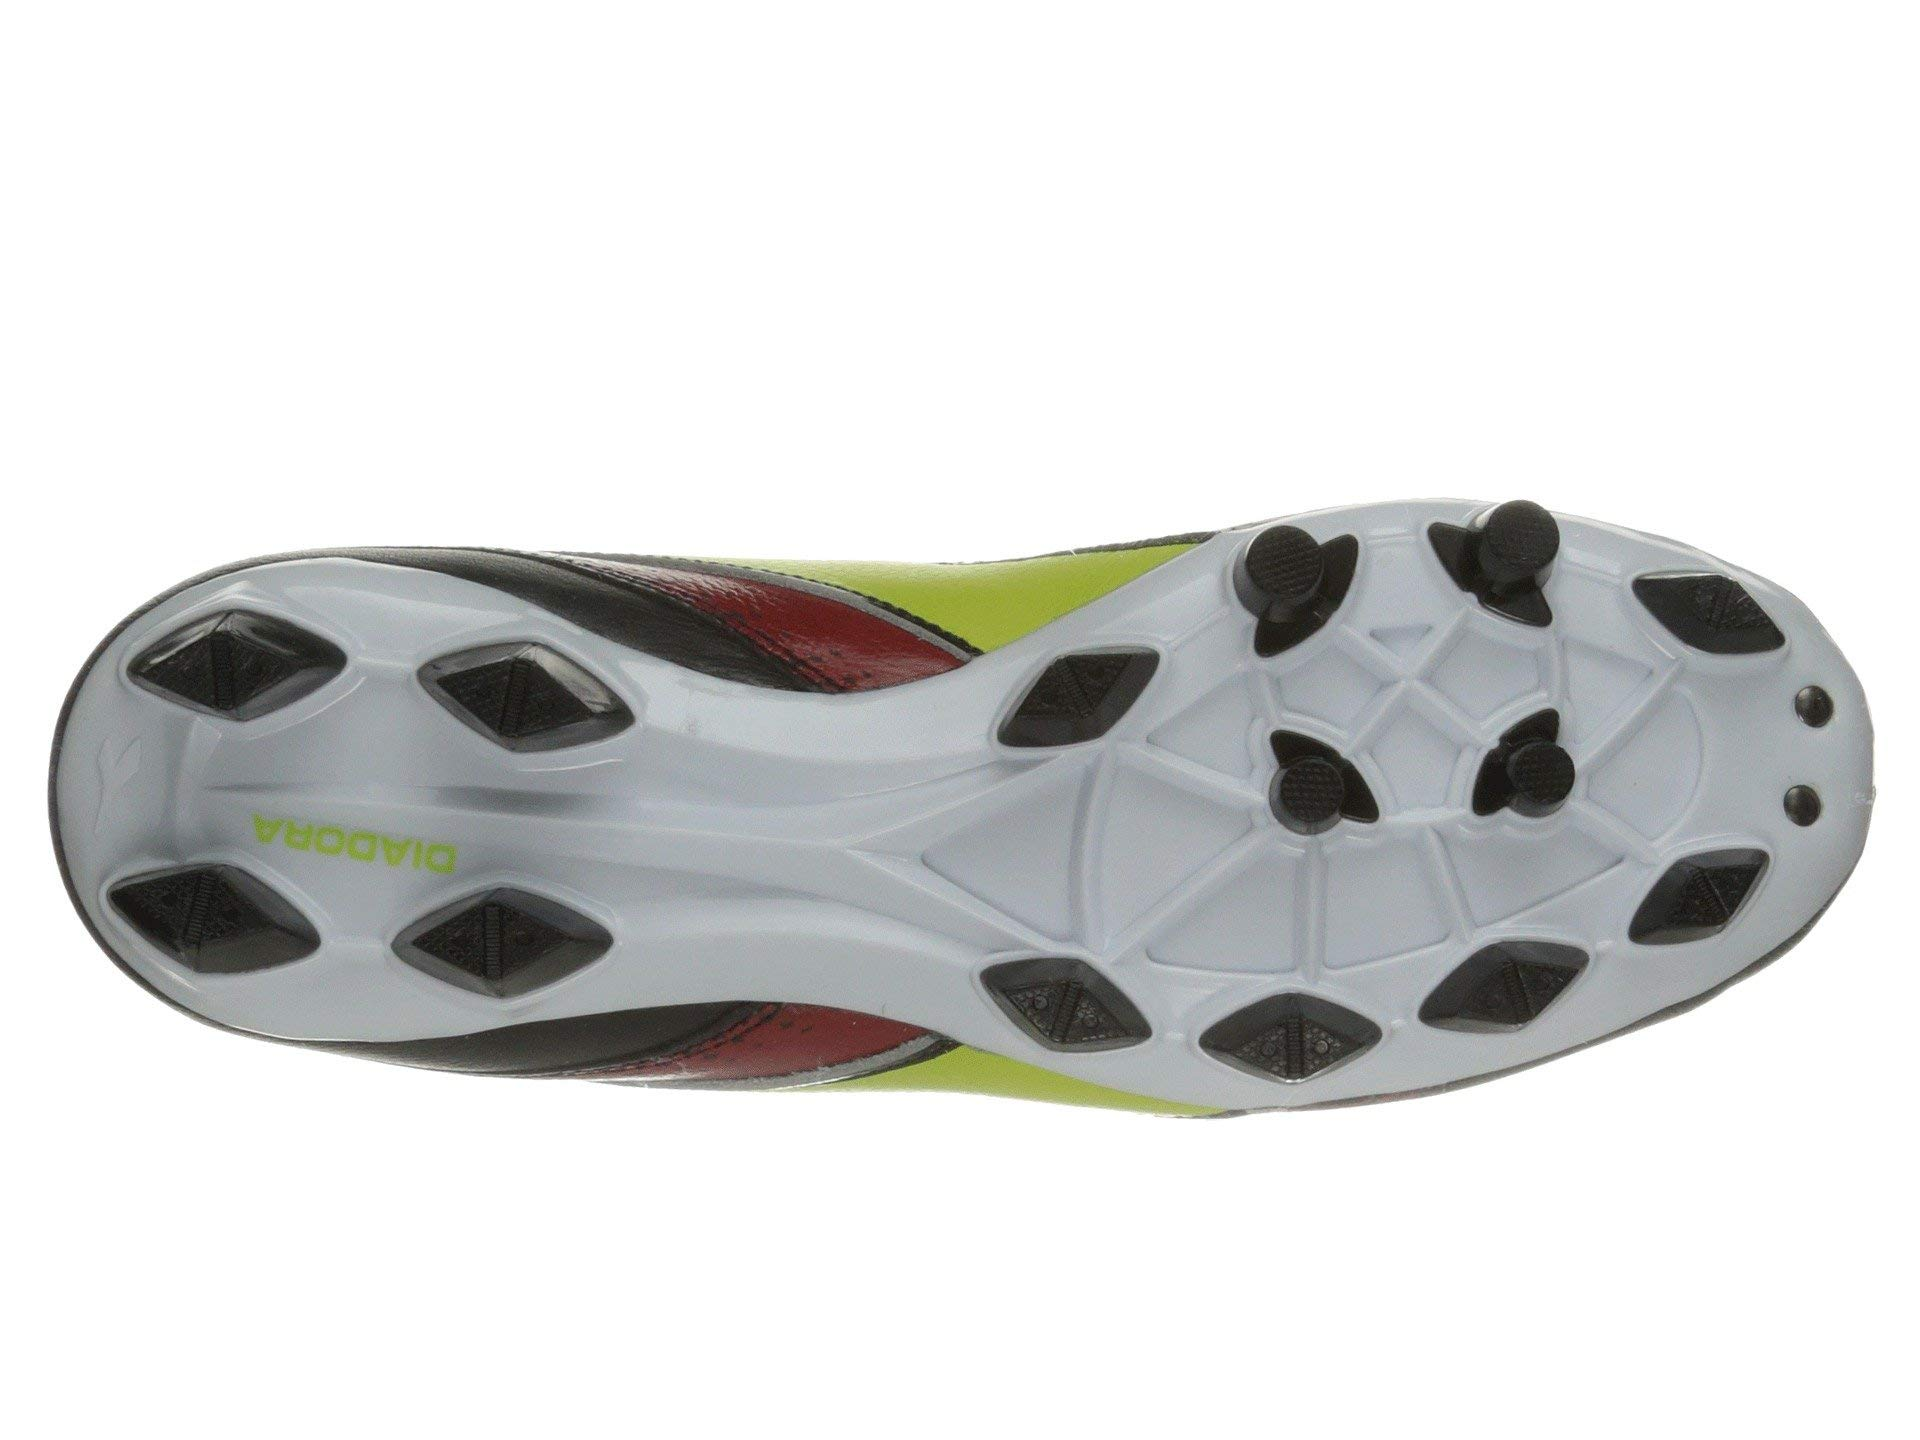circle: (1243, 532, 1575, 898), (115, 584, 358, 753), (227, 787, 519, 888), (1745, 656, 1857, 846)
line: (115, 584, 358, 753)
polygon: (1243, 532, 1575, 898)
quad: (115, 584, 358, 753)
text: (227, 787, 519, 888)
triangle: (1243, 532, 1575, 898), (115, 584, 358, 753)
